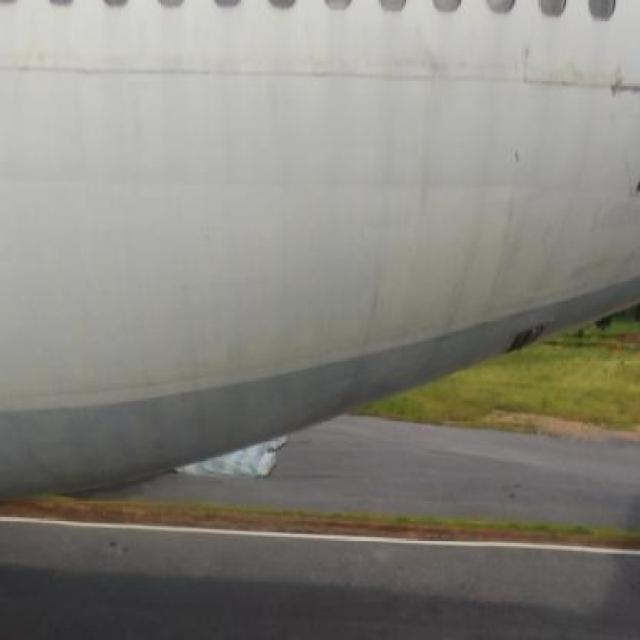Scartch: (517, 52, 640, 111)
